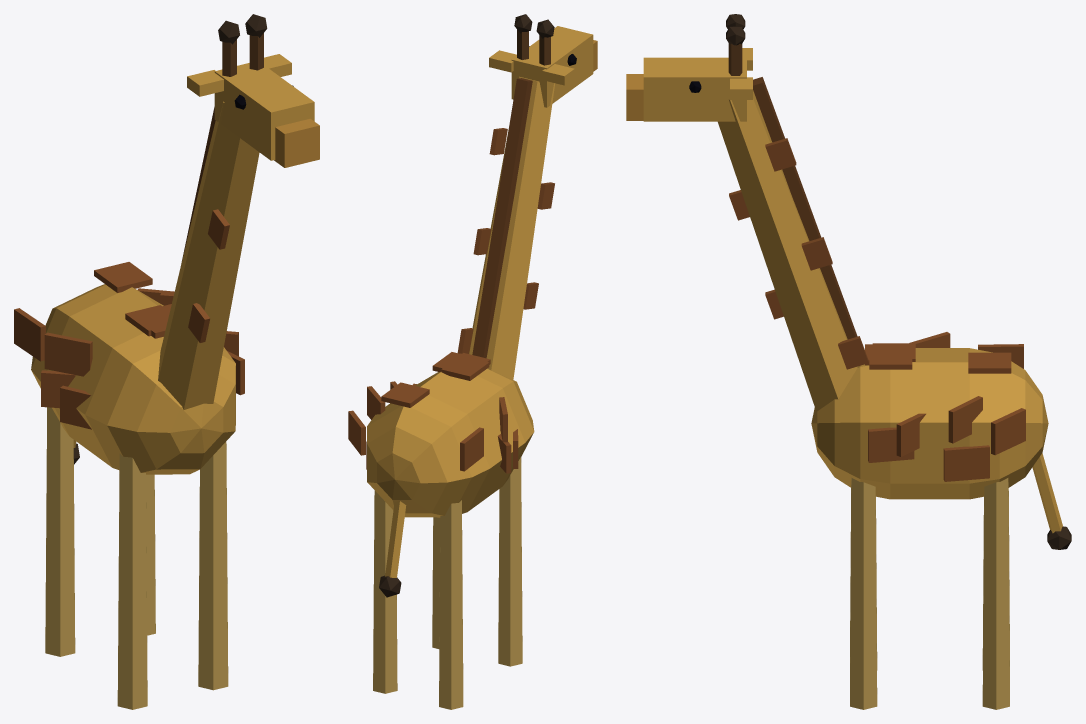
The model's file is jerapah.glb.
3 renders of one model, left to right at view 1: azimuth 30°, elevation 25°; view 2: azimuth 150°, elevation 25°; view 3: azimuth 270°, elevation 25°, orthographic. The views are drawn at different scales.
Visible parts, largest first — view 1: kbs_jerapah, object 2, object 3; view 2: kbs_jerapah, object 2, object 3; view 3: kbs_jerapah, object 2, object 3.
Part boxes in pixels (<box>): kbs_jerapah: <box>14,262,244,709</box>; object 2: <box>158,101,259,409</box>; object 3: <box>187,14,319,167</box>; kbs_jerapah: <box>348,352,534,709</box>; object 2: <box>457,76,555,379</box>; object 3: <box>489,14,597,107</box>; kbs_jerapah: <box>811,332,1071,709</box>; object 2: <box>718,77,868,412</box>; object 3: <box>626,14,752,121</box>.
Size of the model in its own units: 1.25 by 5 by 3.04.
